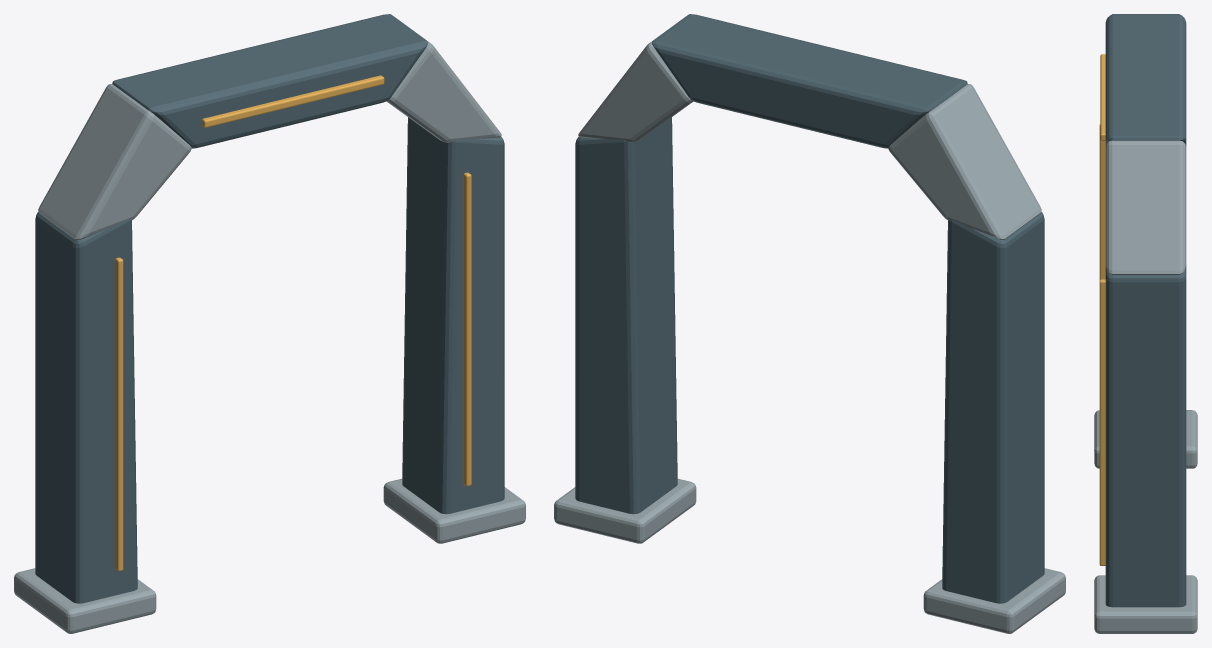
File: portal.glb
The picture shows the model from 3 angles, left to right: view 1: azimuth 30°, elevation 25°; view 2: azimuth 150°, elevation 25°; view 3: azimuth 270°, elevation 25°; orthographic projection. The views are drawn at different scales.
Visible parts, largest first — view 1: Pier.001, Pier, Header, Sloped head, Sloped head.001, Foot, Foot.001, Edge light, Edge light.001, Header light; view 2: Pier.001, Pier, Header, Sloped head, Sloped head.001, Foot, Foot.001; view 3: Pier.001, Sloped head.001, Header, Foot.001, Edge light.001, Foot, Edge light, Header light.
Part boxes in pixels (x1,y1,x2,y2): Pier.001: [402, 117, 504, 514]; Pier: [35, 212, 137, 603]; Header: [112, 14, 427, 148]; Sloped head: [38, 84, 191, 239]; Sloped head.001: [386, 17, 501, 142]; Foot: [14, 568, 156, 633]; Foot.001: [383, 478, 525, 543]; Edge light: [115, 257, 123, 571]; Edge light.001: [463, 172, 471, 486]; Header light: [202, 75, 384, 127]; Pier.001: [575, 117, 677, 514]; Pier: [942, 212, 1044, 603]; Header: [652, 14, 967, 148]; Sloped head: [888, 84, 1041, 239]; Sloped head.001: [578, 17, 693, 142]; Foot: [923, 568, 1065, 633]; Foot.001: [554, 478, 696, 543]; Pier.001: [1105, 265, 1186, 607]; Sloped head.001: [1105, 140, 1186, 274]; Header: [1105, 14, 1186, 146]; Foot.001: [1094, 575, 1197, 633]; Edge light.001: [1099, 279, 1105, 565]; Foot: [1094, 410, 1197, 468]; Edge light: [1099, 124, 1105, 279]; Header light: [1100, 54, 1105, 140].
Size of the model in its own units: 3.01 by 3.13 by 0.64.
